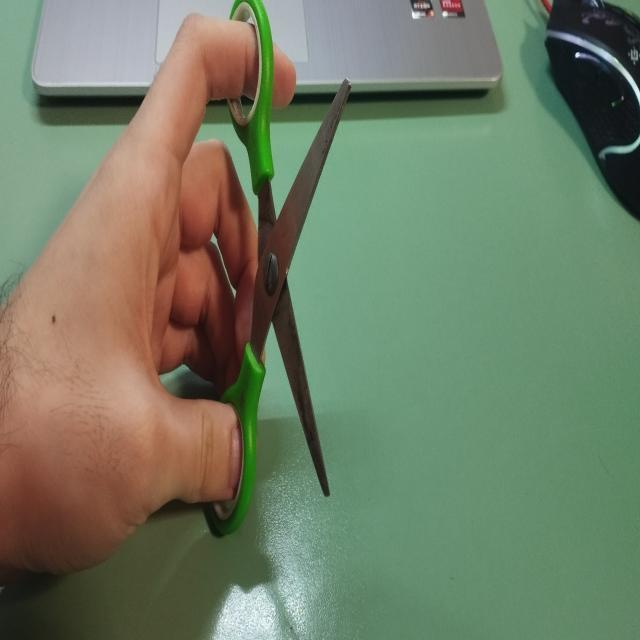tesoura: (196, 0, 354, 544)
